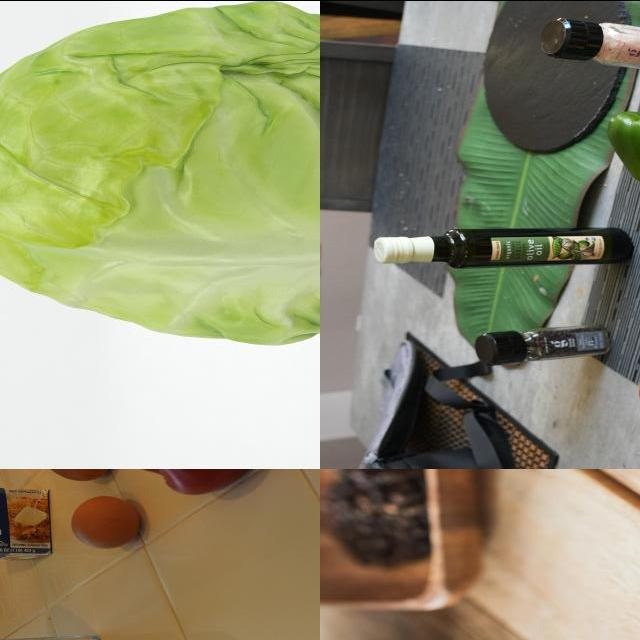bell_pepper: (477, 321, 611, 372), (121, 469, 283, 506)
cabbage: (1, 1, 321, 355)
egg: (71, 494, 145, 553), (39, 469, 112, 481)
